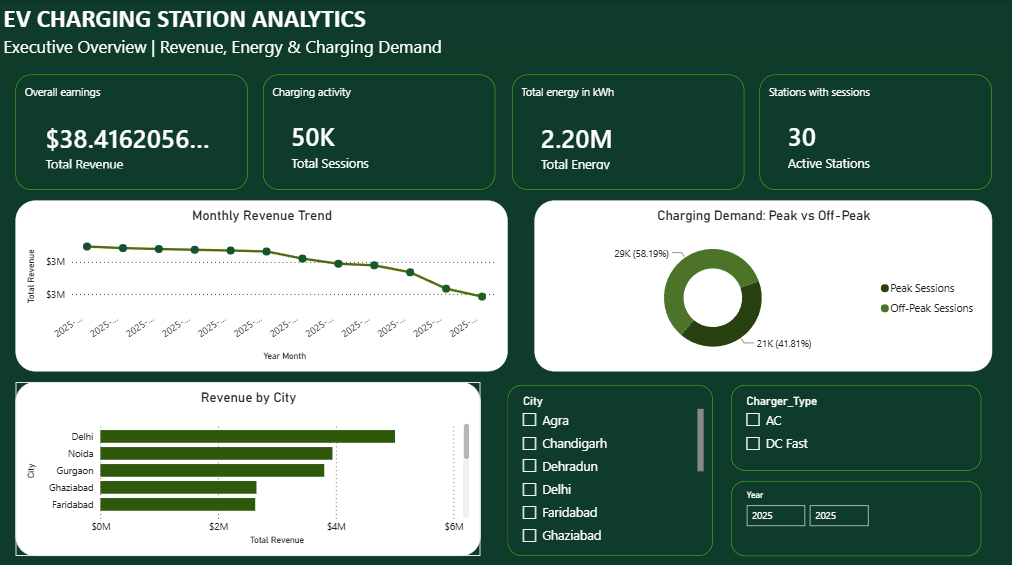

The page's visual inventory and layout, read from the dashboard file:
{"tool":"powerbi","page":{"name":"Executive Overview","canvas":[1280,720],"ordinal":0},"visuals":[{"type":"textbox","box":[0,0,1279.4,83.2],"z":0},{"type":"cardVisual","fields":{"Data":["ev_charging_sessions_engineered.Total Sessions"]},"box":[332.6,96.4,292.9,145.5],"z":1000},{"type":"cardVisual","fields":{"Data":["Calendar.Active Stations"]},"box":[958.1,96.4,292.9,145.5],"z":2000},{"type":"cardVisual","fields":{"Data":["ev_charging_sessions_engineered.Total Energy"]},"box":[646.3,96.4,292.9,145.5],"z":3000},{"type":"cardVisual","fields":{"Data":["ev_charging_sessions_engineered.Total Revenue"]},"box":[20.8,96.4,292.9,145.5],"z":4000},{"type":"lineChart","title":"Monthly Revenue Trend","fields":{"Y":["ev_charging_sessions_engineered.Total Revenue"],"Category":["Calendar.Year Month"]},"box":[20.8,255.1,619.8,215.4],"z":5000},{"type":"clusteredBarChart","title":"Revenue by City","fields":{"Category":["ev_charging_sessions_engineered.City"],"Y":["ev_charging_sessions_engineered.Total Revenue"]},"box":[20.8,483.8,585.8,219.2],"z":6000},{"type":"donutChart","title":"Charging Demand: Peak vs Off-Peak","fields":{"Y":["ev_charging_sessions_engineered.Peak Sessions","ev_charging_sessions_engineered.Off-Peak Sessions"]},"box":[674.7,255.1,576.4,215.4],"z":7000},{"type":"slicer","title":"Select City","fields":{"Values":["ev_charging_sessions_engineered.City"]},"box":[640.6,487.6,258.9,215.4],"z":8000},{"type":"slicer","title":"Charger Type","fields":{"Values":["ev_charging_sessions_engineered.Charger_Type"]},"box":[922.2,487.6,315.6,107.7],"z":9000},{"type":"slicer","title":"Select Year","fields":{"Values":["Calendar.Year"]},"box":[922.2,608.5,315.6,94.5],"z":10000}]}

Visuals, with their boxes in screenshot pixels (x1, y1, x2, y2), scaled from the page's 1280x720 canvas onto the 1012x565 screenshot:
textbox: box=[0, 0, 1011, 65]
cardVisual - ev_charging_sessions_engineered.Total Sessions: box=[263, 76, 495, 190]
cardVisual - Calendar.Active Stations: box=[757, 76, 989, 190]
cardVisual - ev_charging_sessions_engineered.Total Energy: box=[511, 76, 743, 190]
cardVisual - ev_charging_sessions_engineered.Total Revenue: box=[16, 76, 248, 190]
"Monthly Revenue Trend" lineChart: box=[16, 200, 506, 369]
"Revenue by City" clusteredBarChart: box=[16, 380, 480, 552]
"Charging Demand: Peak vs Off-Peak" donutChart: box=[533, 200, 989, 369]
"Select City" slicer: box=[506, 383, 711, 552]
"Charger Type" slicer: box=[729, 383, 979, 467]
"Select Year" slicer: box=[729, 478, 979, 552]
